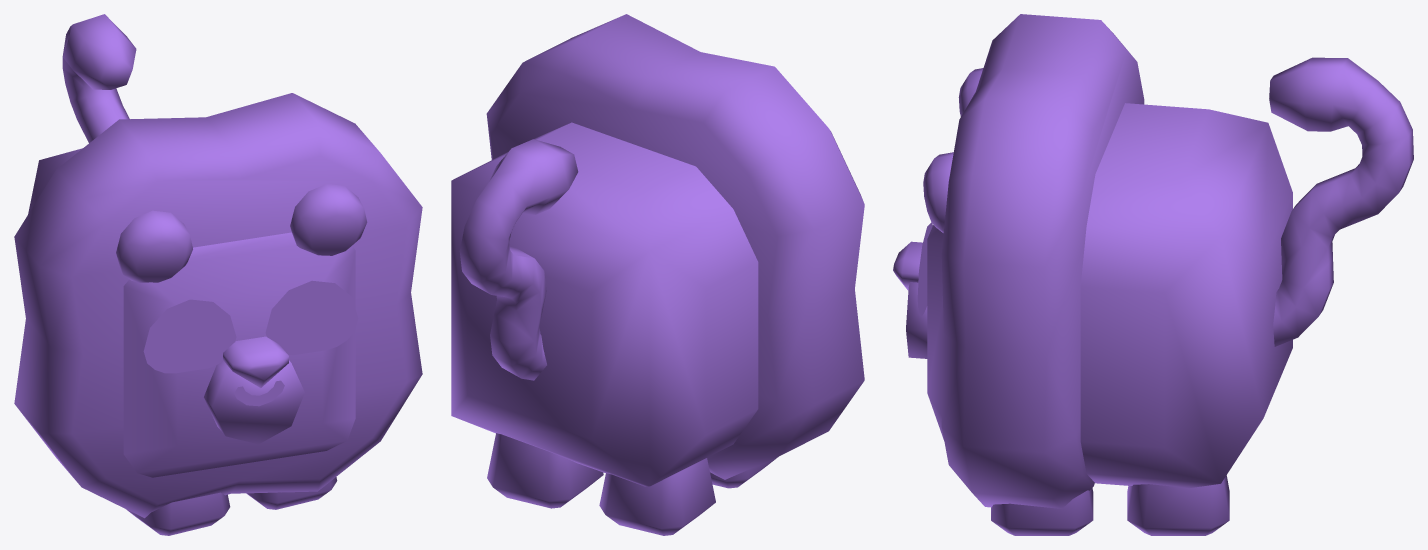
The model's file is enemy1.fbx.
3 renders of one model, left to right at view 1: azimuth 30°, elevation 25°; view 2: azimuth 150°, elevation 25°; view 3: azimuth 270°, elevation 25°, orthographic. The views are drawn at different scales.
Parts seen in each view (by area): view 1: leg-front-right; view 2: leg-front-right; view 3: leg-front-right.
Part boxes in pixels (x1,y1,x2,y2): leg-front-right: (14, 14, 422, 535); leg-front-right: (451, 14, 864, 535); leg-front-right: (893, 14, 1413, 535).
Size of the model in its own units: 1.68 by 1.74 by 1.91.
Materials: 1 (1 with a texture image).
